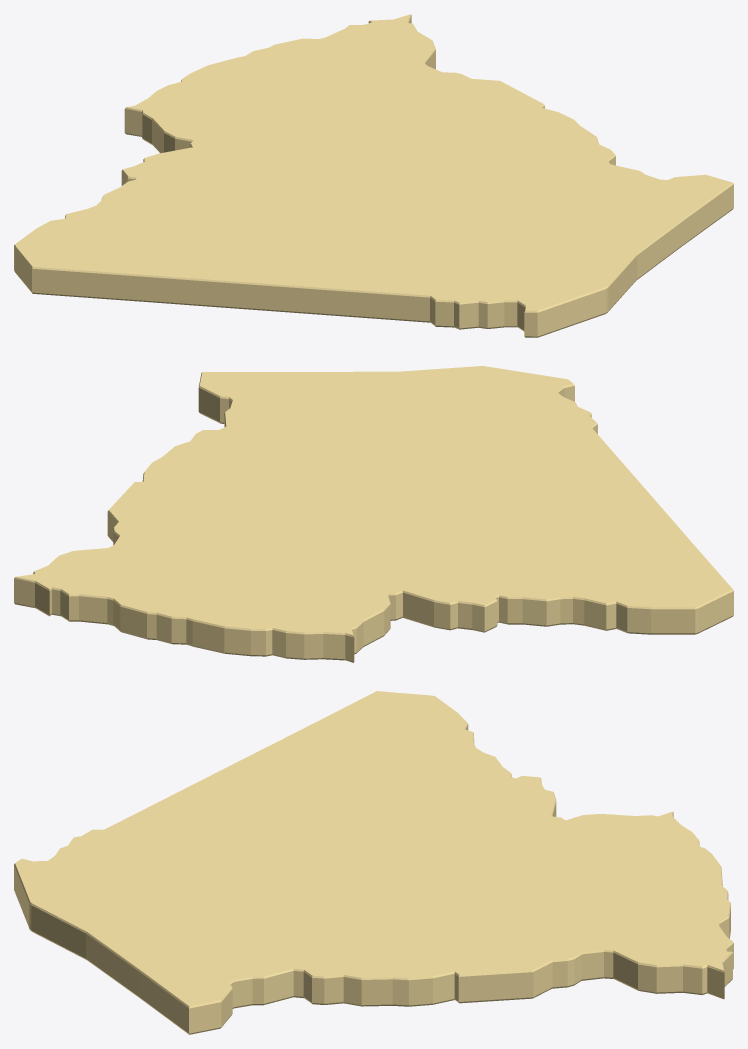
File: DZA.glb
3 renders of one model, top to bottom at view 1: azimuth 30°, elevation 25°; view 2: azimuth 150°, elevation 25°; view 3: azimuth 270°, elevation 25°, orthographic. The views are drawn at different scales.
Size of the model in its own units: 1.61 by 0.068 by 1.55.
